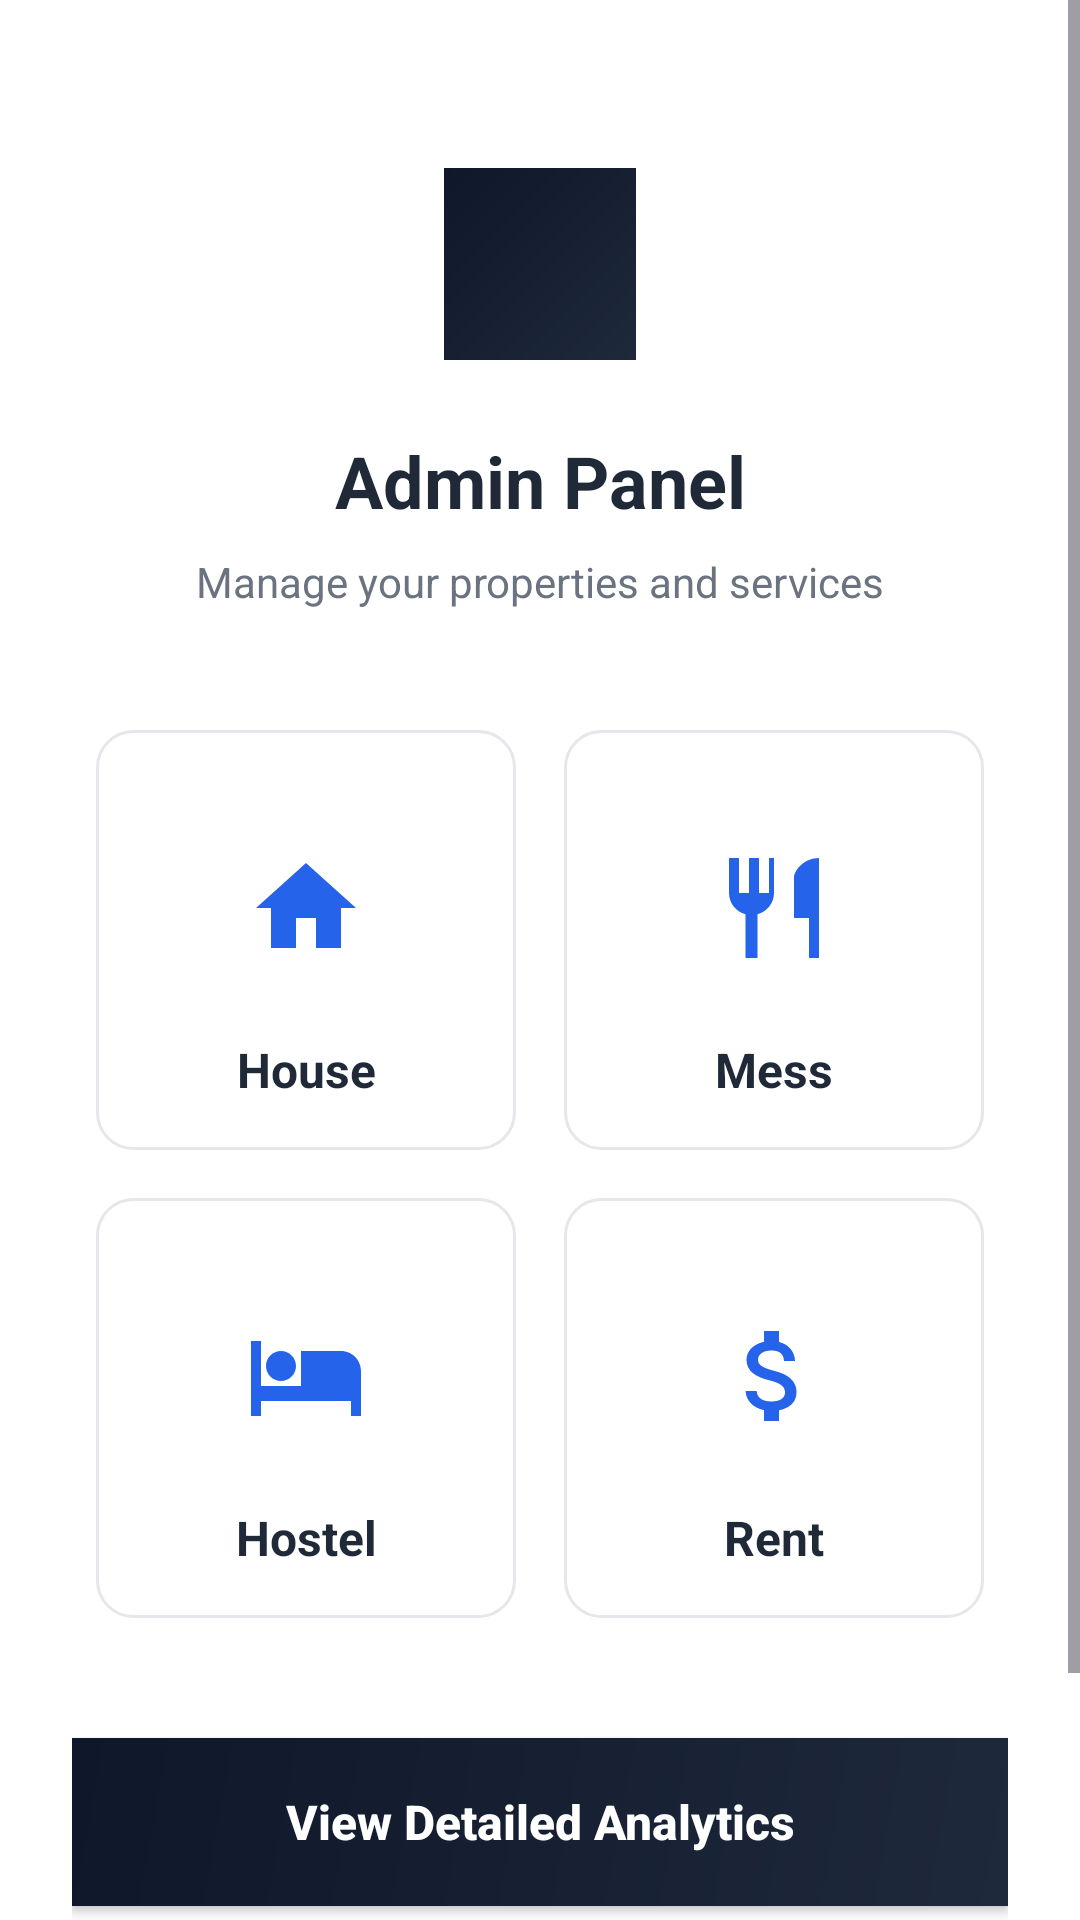

Named icons in this screenshot (1080px×1920px) and their centers, [x,y]:
home: [306,905]
